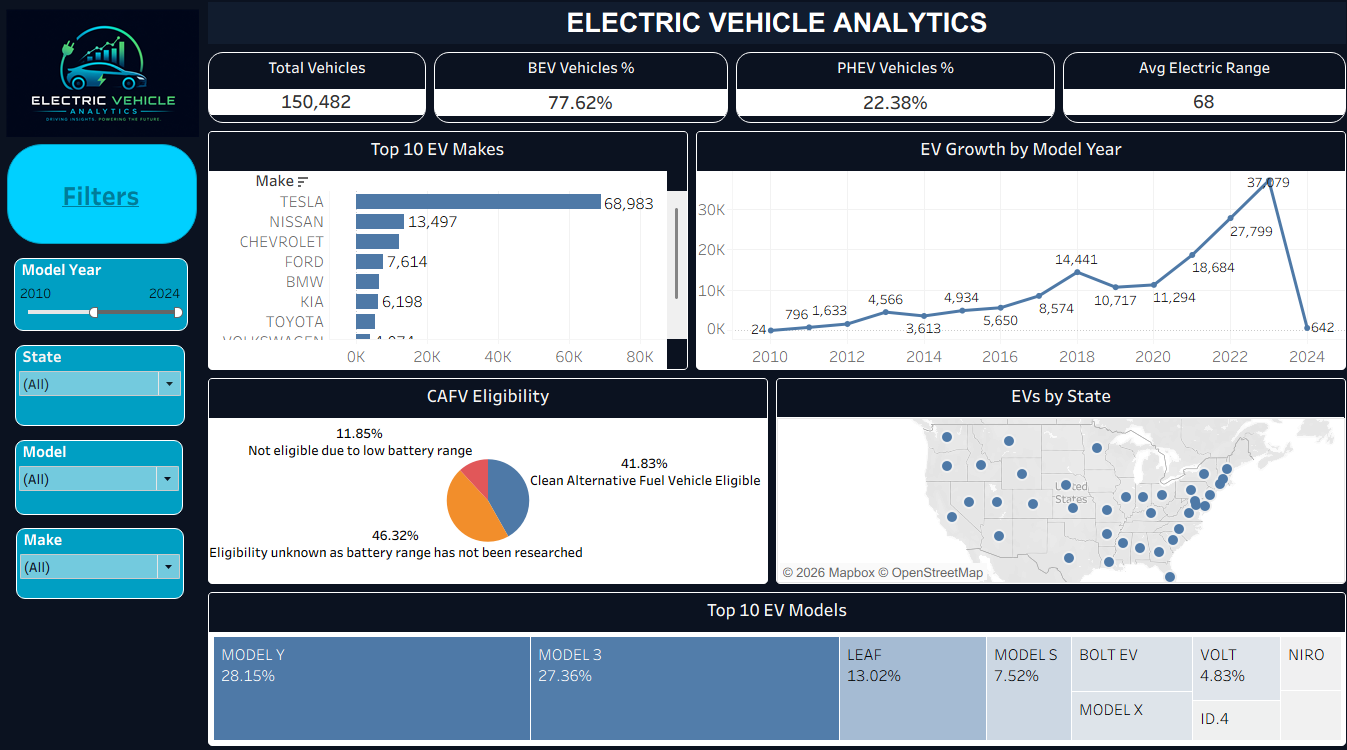

Layout of this report page (visuals, bound fields, positions):
{"tool":"tableau","page":{"name":"Dashboard","canvas":[1366,768],"ordinal":0},"visuals":[{"type":"text","box":[212,8,1146,50]},{"type":"image","param":"C:/Users/hatem/Downloads/Dolaraaat/Electric_Vehicle_Population/Logo.png","box":[14,14,193,139]},{"type":"worksheet","title":"Total Vehicles","mark":"Automatic","box":[212,58,226,79]},{"type":"worksheet","title":"BEV Vehicles %","mark":"Automatic","box":[438,58,302,79]},{"type":"worksheet","title":"PHEV Vehicles %","mark":"Automatic","box":[740,58,327,79]},{"type":"worksheet","title":"Avg Electric Range","mark":"Automatic","box":[1067,58,291,79]},{"type":"image","param":"C:/Users/hatem/Downloads/ChatGPT Image Aug 24, 2026, 01_44_46 PM.png","box":[8,137,204,124]},{"type":"worksheet","title":"Top 10 EV Makes","mark":"Automatic","rows":["Make"],"cols":["VIN (1-10)"],"box":[212,137,488,247]},{"type":"worksheet","title":"EV Growth by Model Year","mark":"Line","rows":["VIN (1-10)"],"cols":["Model Year"],"box":[700,137,658,247]},{"type":"text","box":[35,171,148,68]},{"type":"filter","title":"EV Growth by Model Year","param":"[federated.01g2r9p1jk7n4e18artyg0gi1aj7].[none:Model Year:qk]","box":[22,268,174,73]},{"type":"filter","title":"CAFV Eligibility","param":"[federated.01g2r9p1jk7n4e18artyg0gi1aj7].[none:State:nk]","box":[23,355,170,81]},{"type":"worksheet","title":"CAFV Eligibility","mark":"Pie","box":[212,384,567.8,214]},{"type":"worksheet","title":"EVs by State","mark":"Automatic","box":[779.8,384,578.2,214]},{"type":"filter","title":"Top 10 EV Makes","param":"[federated.01g2r9p1jk7n4e18artyg0gi1aj7].[none:Model:nk]","box":[23,450,168,75]},{"type":"filter","title":"Top 10 EV Makes","param":"[federated.01g2r9p1jk7n4e18artyg0gi1aj7].[none:Make:nk]","box":[24,538,168,71]},{"type":"worksheet","title":"Top 10 EV Models","mark":"Automatic","box":[212,598,1146,162]}]}

Visuals, with their boxes in screenshot pixels (x1, y1, x2, y2), scaled from the page's 1366x768 canvas onto the 1347x750 screenshot:
text: (left=209, top=8, right=1339, bottom=57)
image: (left=14, top=14, right=204, bottom=149)
"Total Vehicles" worksheet: (left=209, top=57, right=432, bottom=134)
"BEV Vehicles %" worksheet: (left=432, top=57, right=730, bottom=134)
"PHEV Vehicles %" worksheet: (left=730, top=57, right=1052, bottom=134)
"Avg Electric Range" worksheet: (left=1052, top=57, right=1339, bottom=134)
image: (left=8, top=134, right=209, bottom=255)
"Top 10 EV Makes" worksheet: (left=209, top=134, right=690, bottom=375)
"EV Growth by Model Year" worksheet (Line marks): (left=690, top=134, right=1339, bottom=375)
text: (left=35, top=167, right=180, bottom=233)
"EV Growth by Model Year" filter: (left=22, top=262, right=193, bottom=333)
"CAFV Eligibility" filter: (left=23, top=347, right=190, bottom=426)
"CAFV Eligibility" worksheet (Pie marks): (left=209, top=375, right=769, bottom=584)
"EVs by State" worksheet: (left=769, top=375, right=1339, bottom=584)
"Top 10 EV Makes" filter: (left=23, top=439, right=188, bottom=513)
"Top 10 EV Makes" filter: (left=24, top=525, right=189, bottom=595)
"Top 10 EV Models" worksheet: (left=209, top=584, right=1339, bottom=742)
